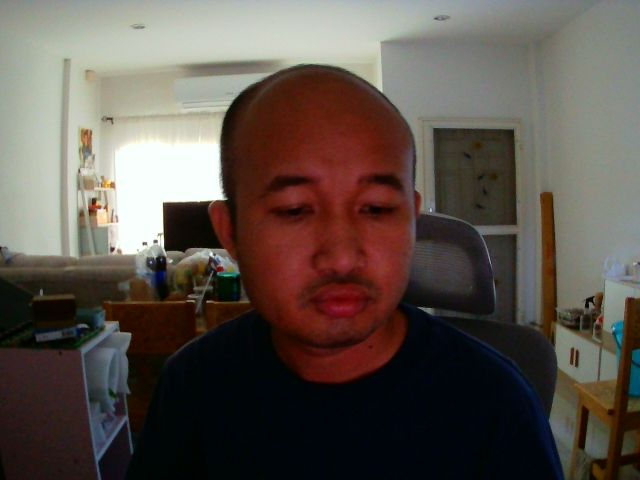face: (215, 65, 416, 350)
